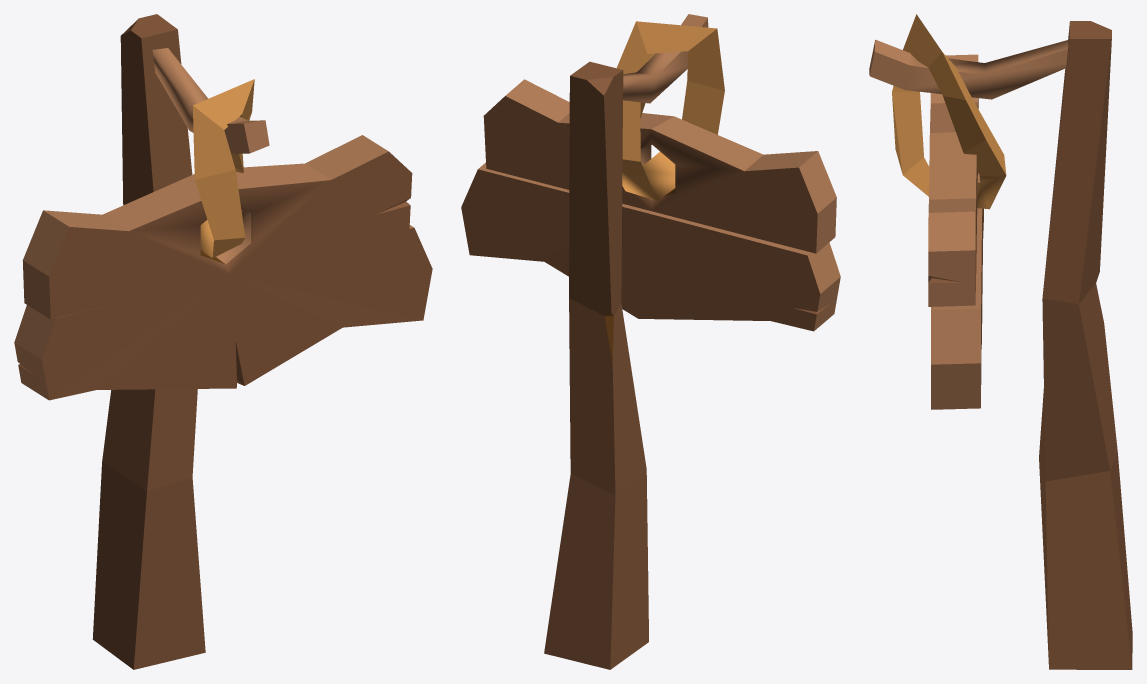
The model's file is SignPost_wood.glb.
The picture shows the model from 3 angles, left to right: view 1: azimuth 30°, elevation 25°; view 2: azimuth 150°, elevation 25°; view 3: azimuth 270°, elevation 25°; orthographic projection. The views are drawn at different scales.
Parts seen in each view (by area): view 1: SignPost_Wood_01; view 2: SignPost_Wood_01; view 3: SignPost_Wood_01.
Boxes of the visible parts, x1,y1,x2,y2 form: SignPost_Wood_01: [14, 14, 432, 669]; SignPost_Wood_01: [461, 14, 840, 669]; SignPost_Wood_01: [869, 14, 1132, 669].
Size of what is drawn, in the model's own units: 1 by 1.52 by 0.5817.
1 material, 1 textured.
